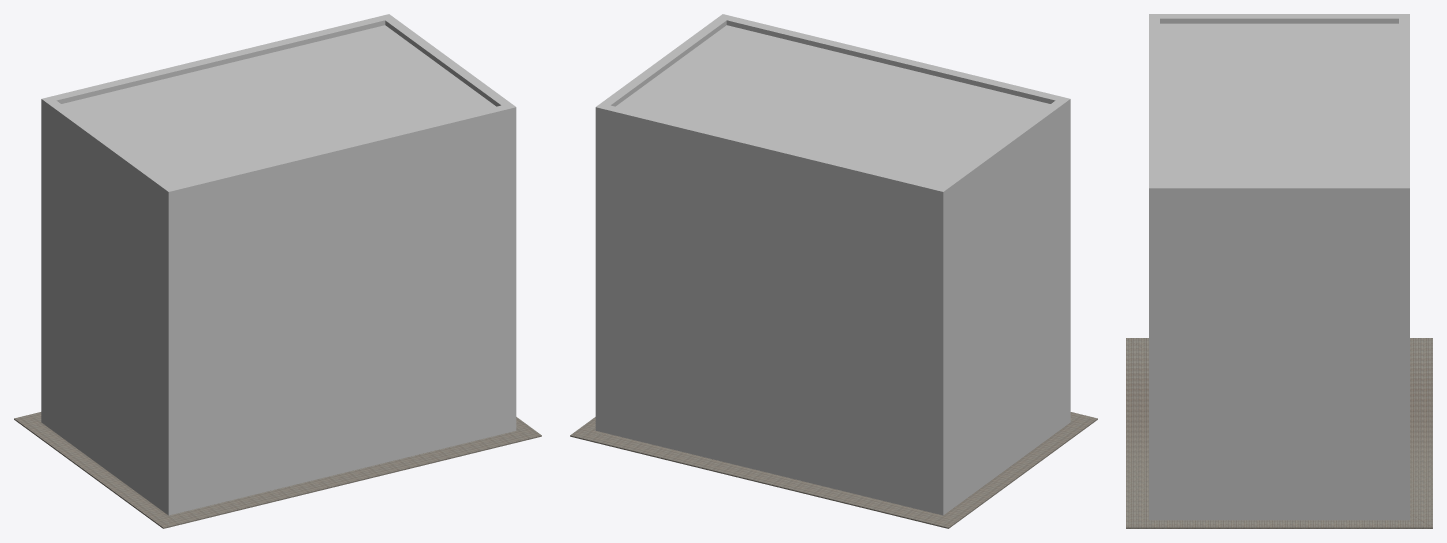
File: Building 1.FBX
3 views of the same model, side by side, from view 1: azimuth 30°, elevation 25°; view 2: azimuth 150°, elevation 25°; view 3: azimuth 270°, elevation 25° (orthographic). The views are drawn at different scales.
Parts seen in each view (by area): view 1: Building 1; view 2: Building 1; view 3: Building 1.
Boxes of the visible parts, bbox=[...] form: Building 1: bbox=[14, 14, 541, 528]; Building 1: bbox=[570, 14, 1097, 528]; Building 1: bbox=[1126, 14, 1432, 528].
Bounding box in the file's own units: 4917 × 4032 × 3360.
